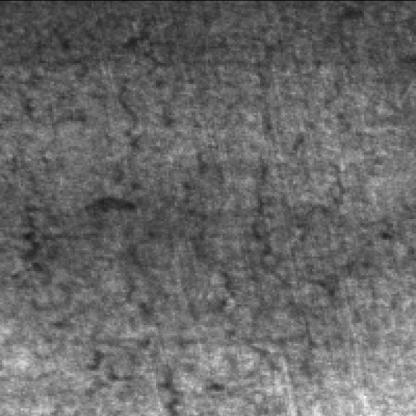crazing: (118, 29, 348, 322)
